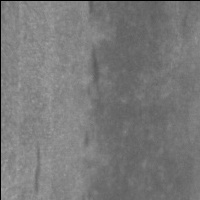inclusion: (82, 39, 109, 92), (29, 134, 47, 195)
